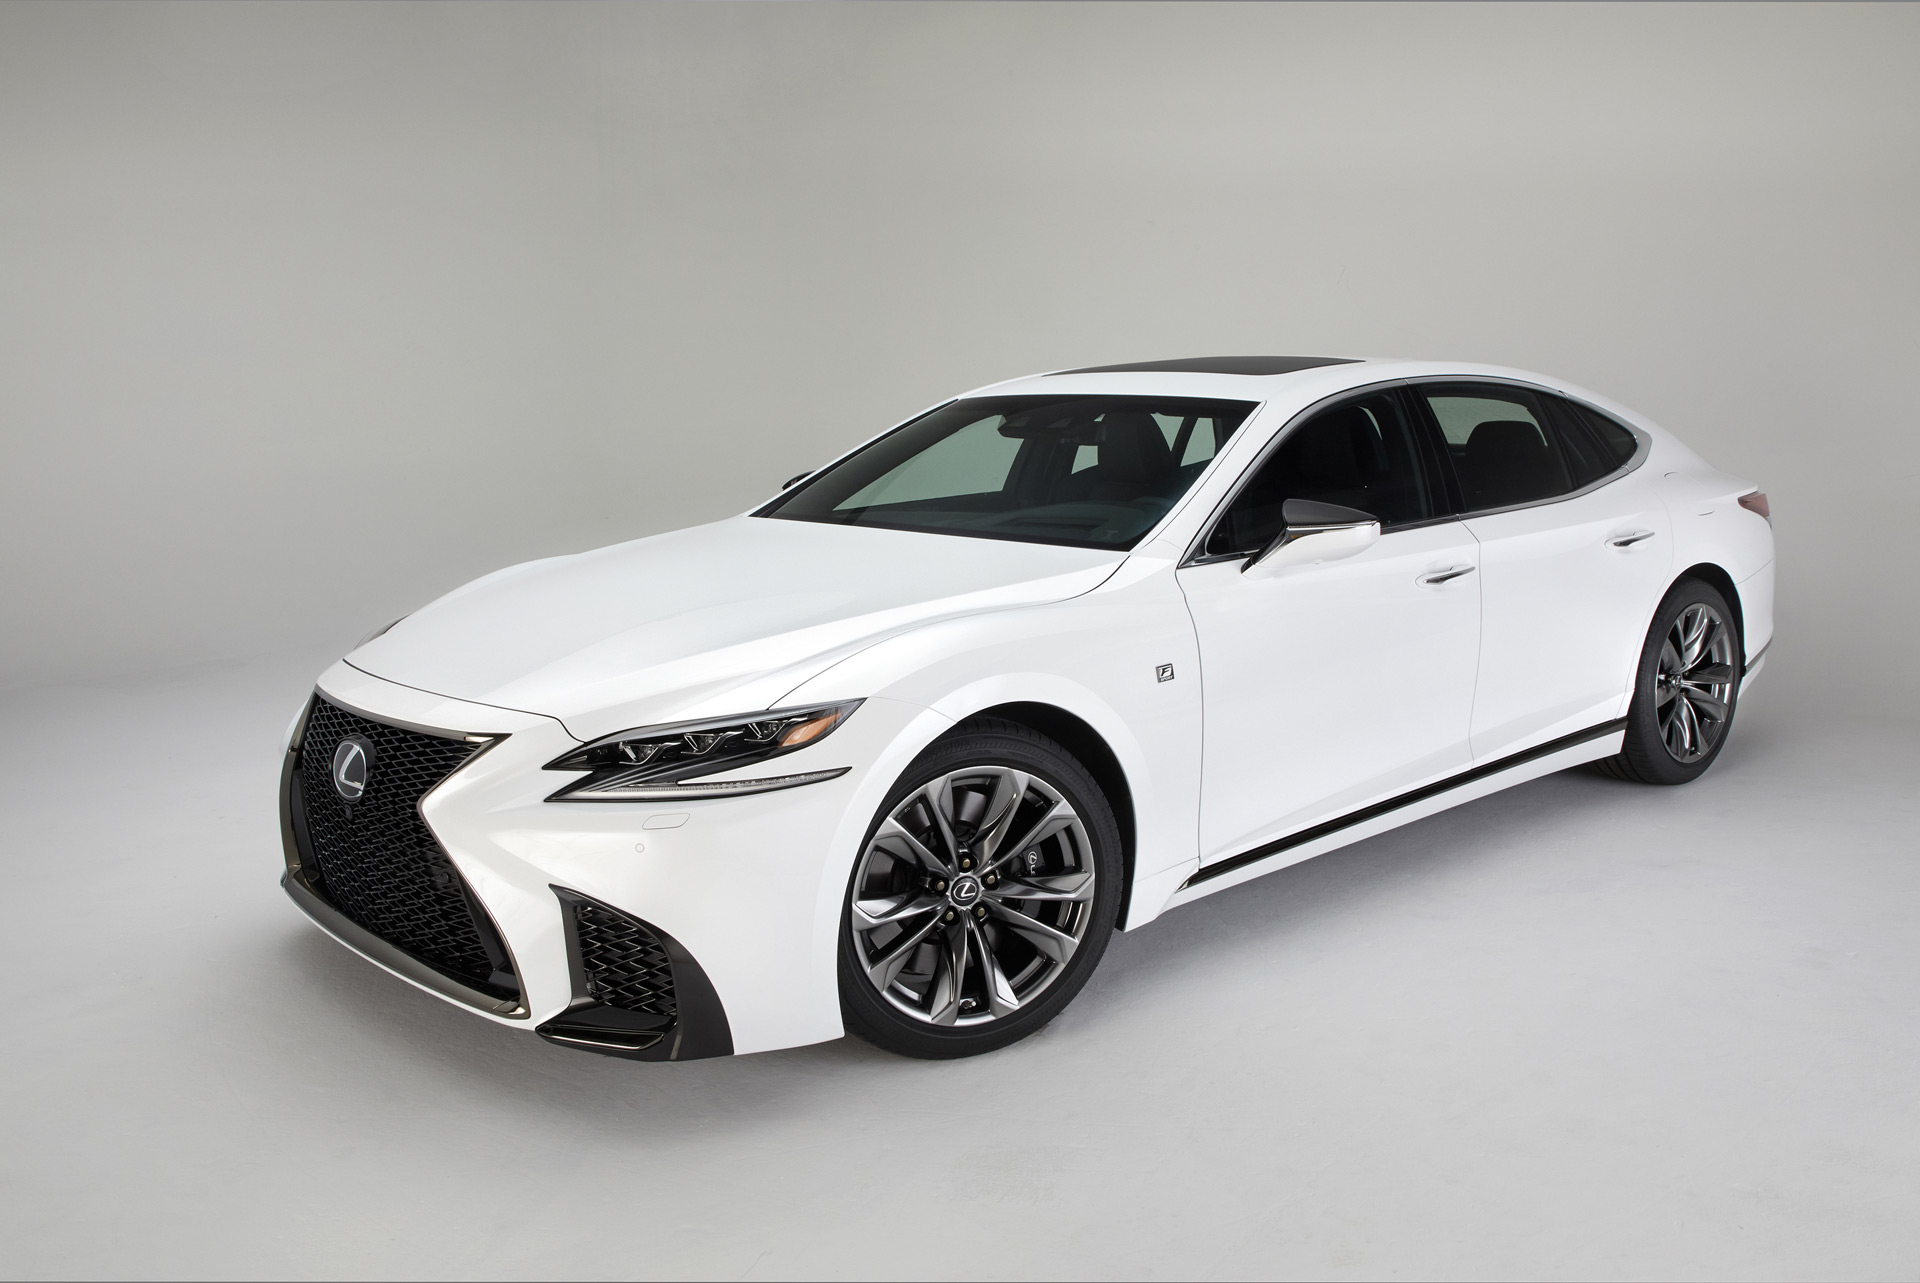car: (281, 354, 1775, 1062)
